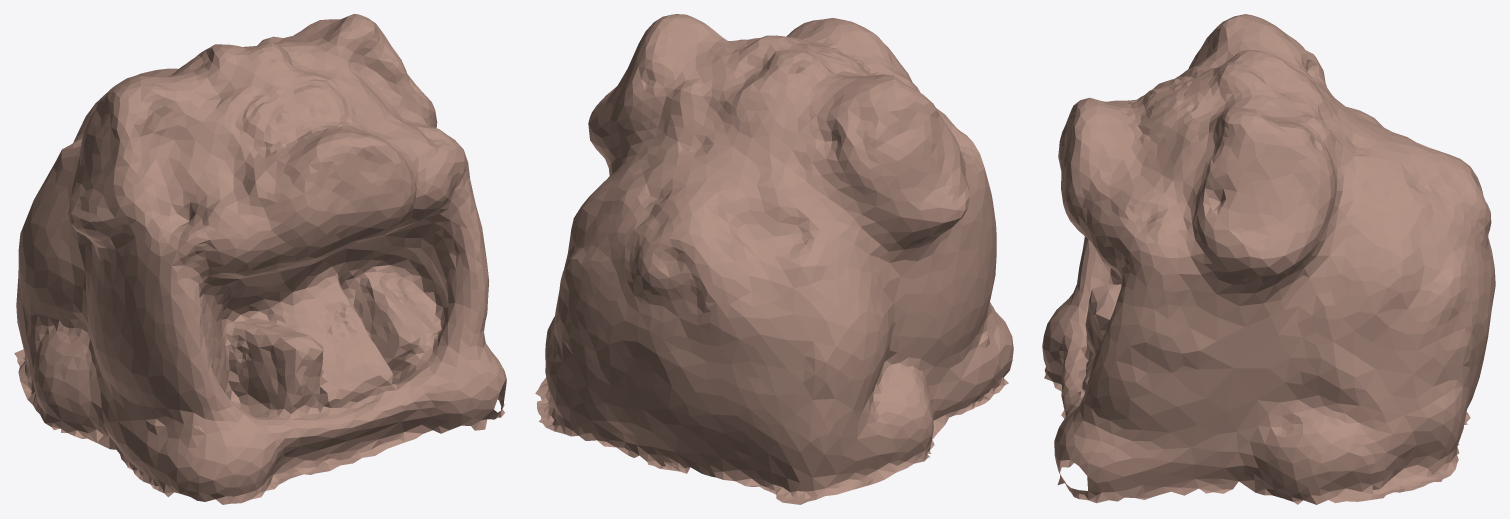
Rendered from PIG.fbx.
3 views of the same model, side by side, from view 1: azimuth 30°, elevation 25°; view 2: azimuth 150°, elevation 25°; view 3: azimuth 270°, elevation 25° (orthographic).
Visible parts, largest first — view 1: PIG; view 2: PIG; view 3: PIG.
Part boxes in pixels (x1=…): PIG: x1=14, y1=14, x2=506, y2=504; PIG: x1=535, y1=14, x2=1013, y2=504; PIG: x1=1042, y1=14, x2=1495, y2=504.
Size of the model in its own units: 17.08 by 15.61 by 17.65.
